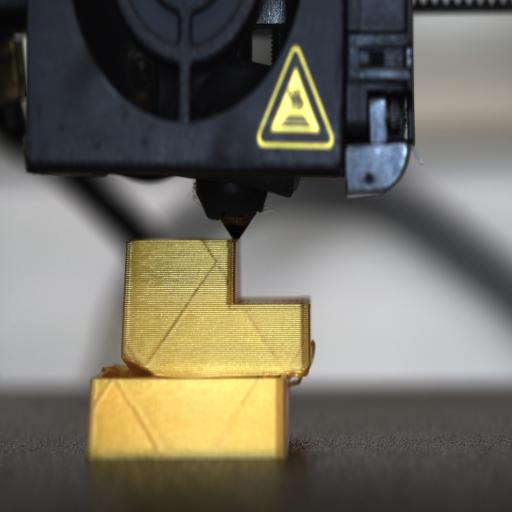layer_shift: (89, 359, 314, 385)
